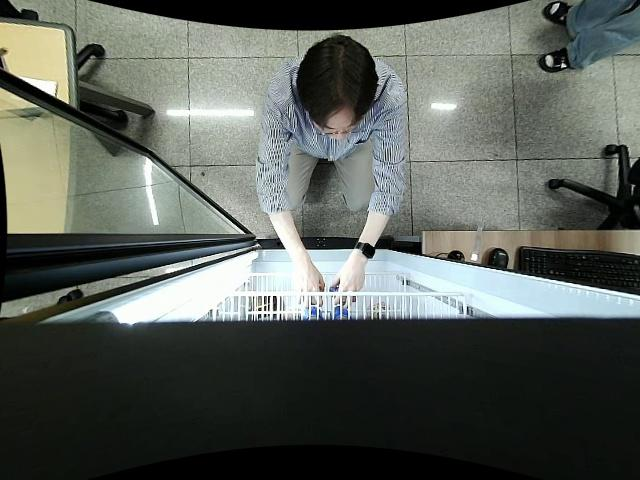00_hand: (289, 266, 326, 314), (327, 268, 362, 310)
